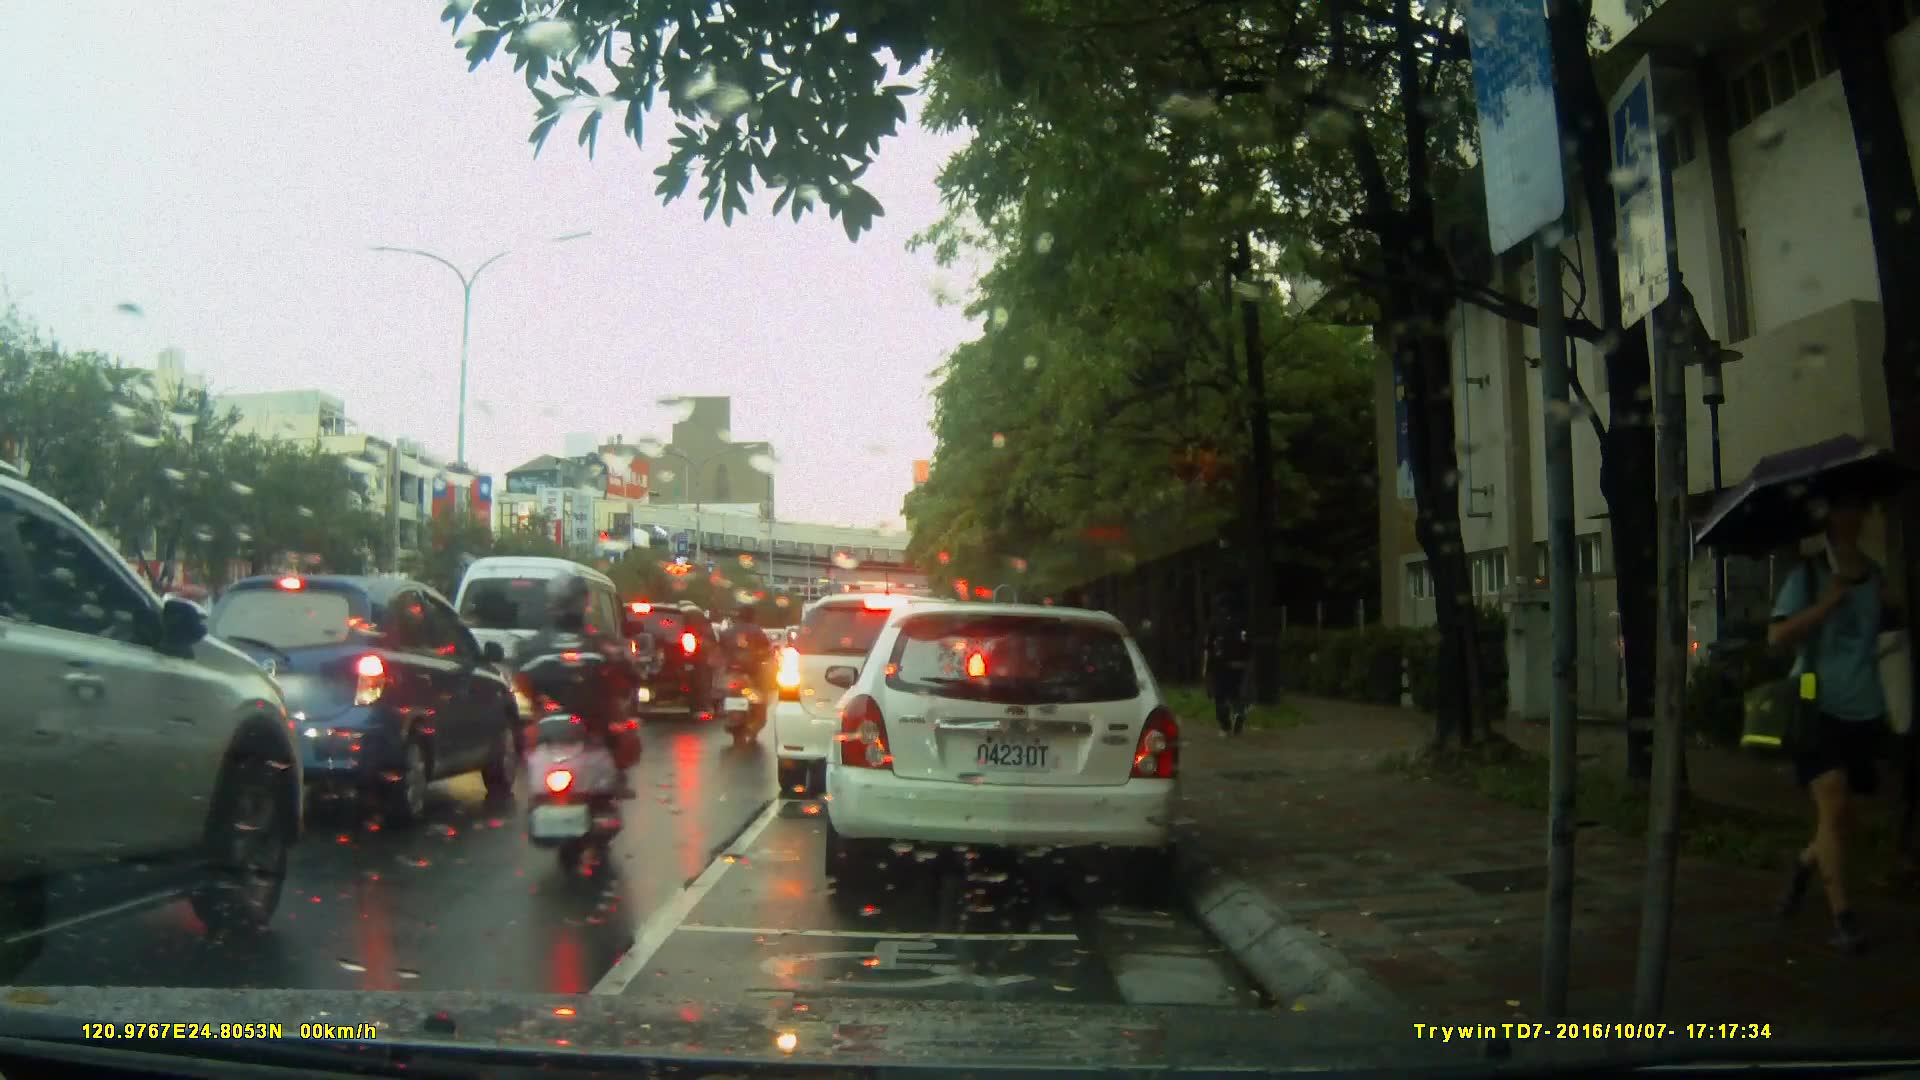pedestrian: (1767, 467, 1906, 948), (1194, 587, 1264, 748)
rider: (512, 566, 645, 883), (718, 600, 775, 747)
vehicle: (1, 450, 305, 989), (815, 593, 1204, 909), (158, 572, 533, 834), (770, 590, 994, 802), (443, 554, 644, 763), (584, 602, 735, 724)
